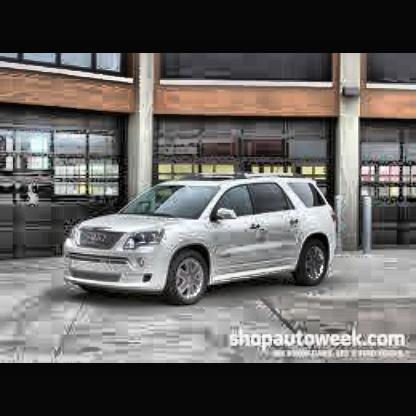GMC Acadia SUV 2012: (61, 171, 341, 311)
